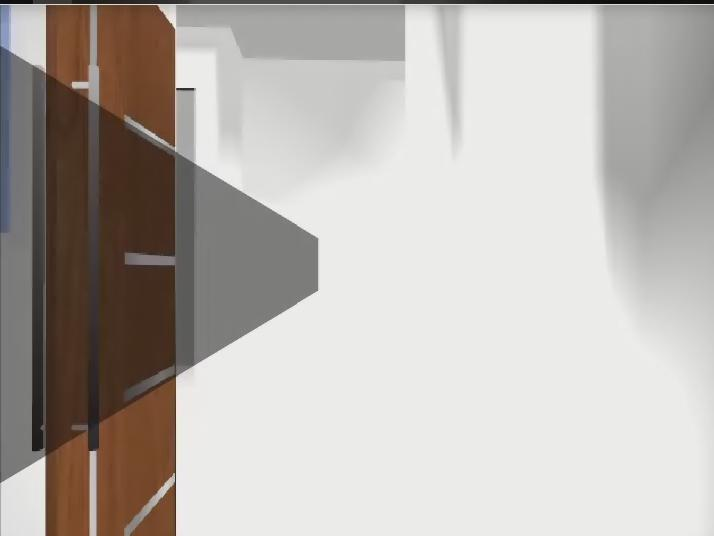door: (33, 5, 176, 536)
